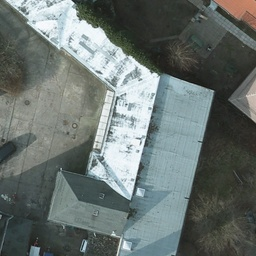car: (1, 141, 15, 163)
